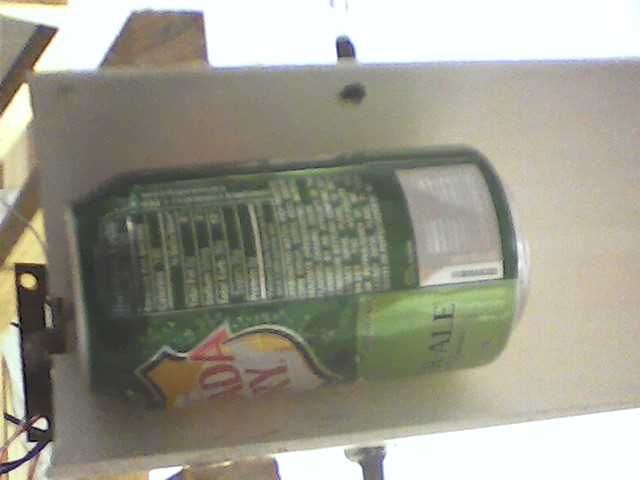lata: (60, 139, 537, 408)
